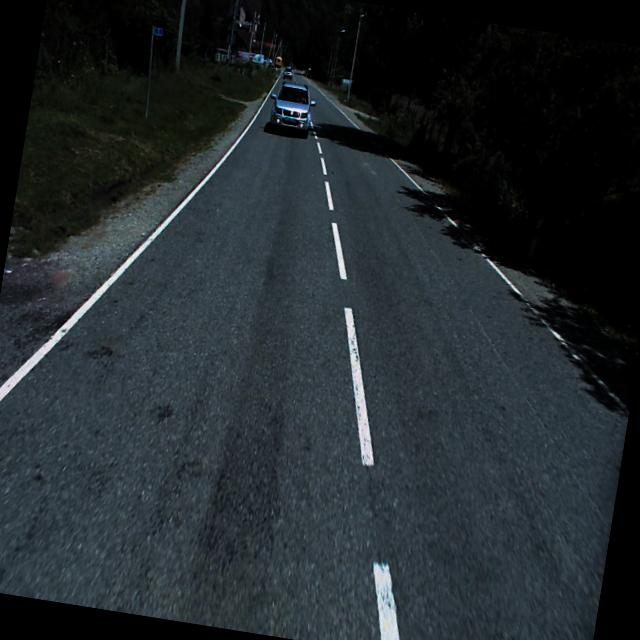road: (0, 72, 629, 640)
